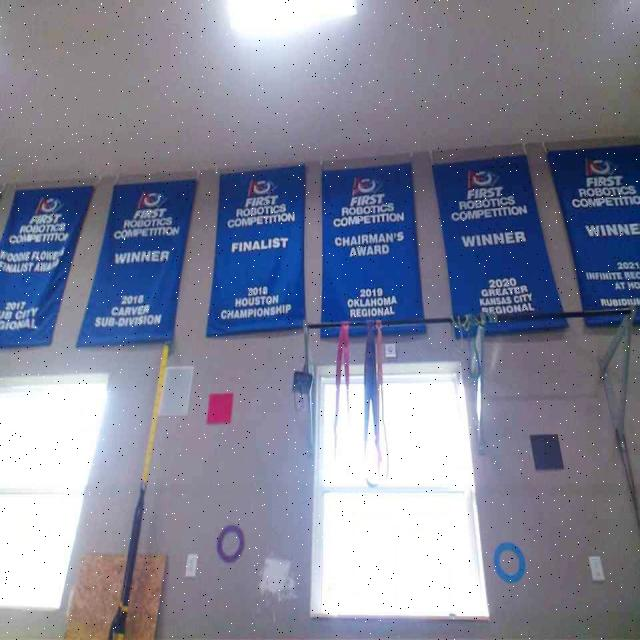ring_blue: (494, 542, 526, 580)
ring_purple: (216, 522, 245, 562)
square_black: (528, 432, 565, 468)
square_red: (205, 390, 234, 424)
